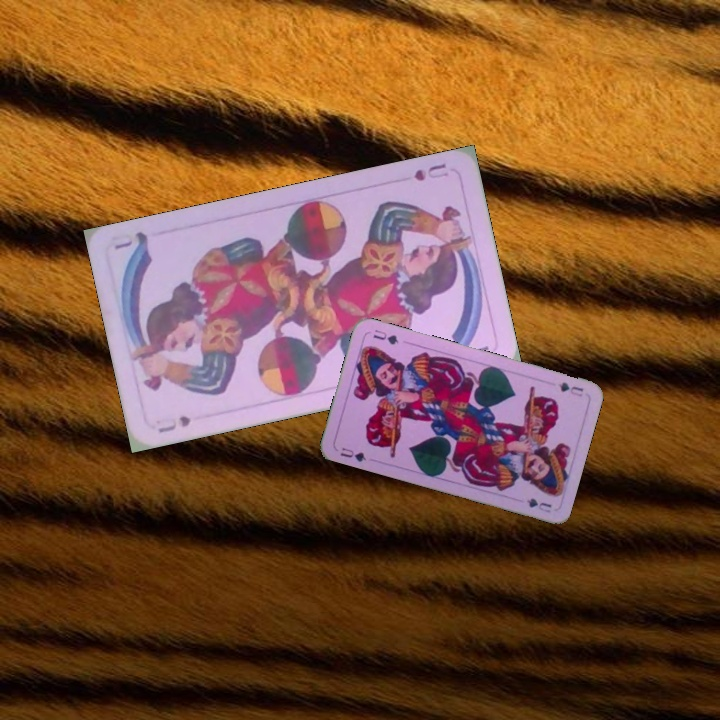GU: (336, 443, 369, 464), (554, 378, 586, 399)
SU: (154, 411, 196, 436), (410, 159, 451, 184)
